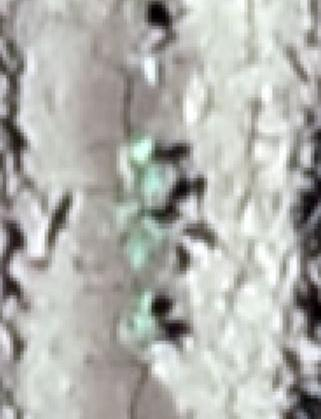cotton: (125, 318, 163, 343), (128, 136, 153, 161), (140, 172, 159, 192), (137, 290, 154, 309)
